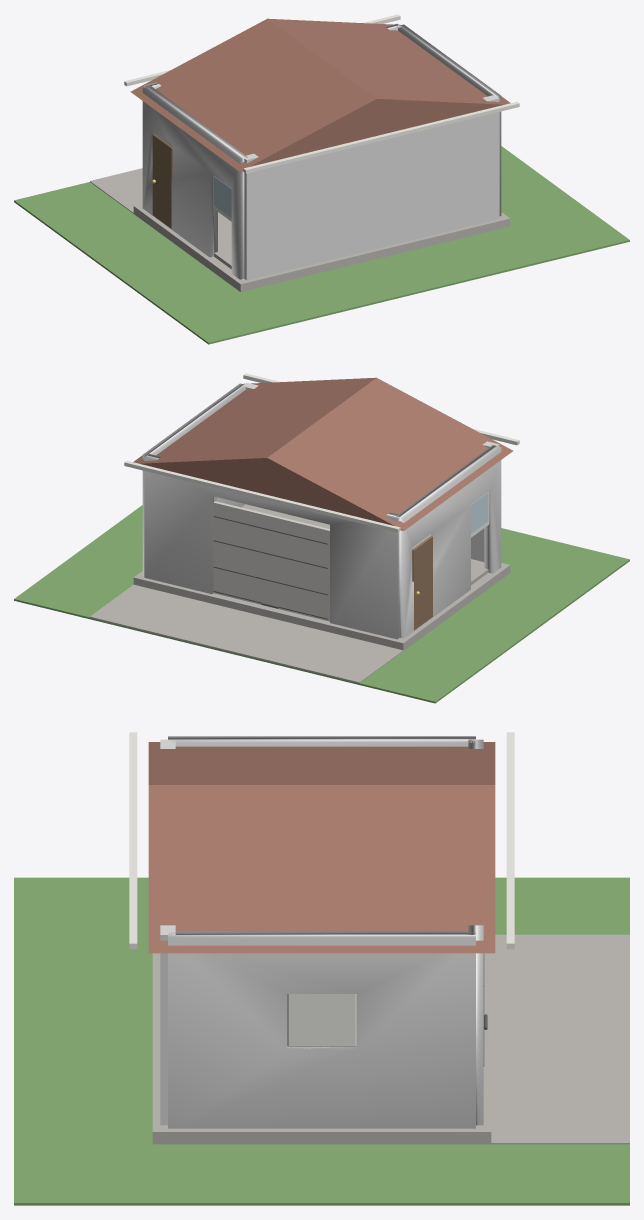
Rendered from garage_detached.glb.
3 renders of one model, top to bottom at view 1: azimuth 30°, elevation 25°; view 2: azimuth 150°, elevation 25°; view 3: azimuth 270°, elevation 25°, orthographic. The views are drawn at different scales.
Visible parts, largest first — view 1: ground, roof, back_wall, left_wall, foundation, back_gutter, panel, right_wall, driveway, floor, frame, glass; view 2: roof, ground, front_wall, panel (×2), driveway, left_wall, foundation, front_gutter, right_wall, floor, frame, back_wall (+1 smaller); view 3: ground, roof, right_wall, driveway, foundation, frame, left_wall, front_gutter, back_gutter, front_wall, back_wall.
Boxes of the visible parts, x1,y1,x2,y2 form: ground: [14, 146, 629, 344]; roof: [130, 18, 510, 171]; back_wall: [242, 95, 499, 280]; left_wall: [142, 86, 247, 279]; foundation: [133, 204, 510, 291]; back_gutter: [243, 101, 519, 173]; panel: [152, 134, 172, 228]; right_wall: [397, 24, 501, 216]; driveway: [90, 168, 142, 213]; floor: [214, 212, 231, 268]; frame: [213, 175, 231, 219]; glass: [214, 176, 231, 217]; roof: [133, 377, 513, 530]; ground: [14, 505, 629, 703]; front_wall: [144, 454, 401, 639]; panel (×2): [213, 501, 432, 630]; driveway: [90, 584, 407, 683]; left_wall: [396, 445, 501, 638]; foundation: [133, 563, 510, 650]; front_gutter: [124, 460, 400, 532]; right_wall: [142, 383, 245, 575]; floor: [241, 504, 488, 585]; frame: [471, 491, 489, 535]; back_wall: [242, 382, 499, 561]; ground: [14, 877, 629, 1205]; roof: [148, 742, 495, 953]; right_wall: [168, 931, 475, 1128]; driveway: [478, 934, 629, 1144]; foundation: [152, 953, 491, 1144]; frame: [287, 994, 356, 1046]; left_wall: [168, 736, 475, 746]; front_gutter: [506, 732, 514, 949]; back_gutter: [129, 732, 137, 949]; front_wall: [468, 739, 483, 1125]; back_wall: [160, 739, 175, 1125].
Size of the model in its own units: 10 by 3.7 by 8.
